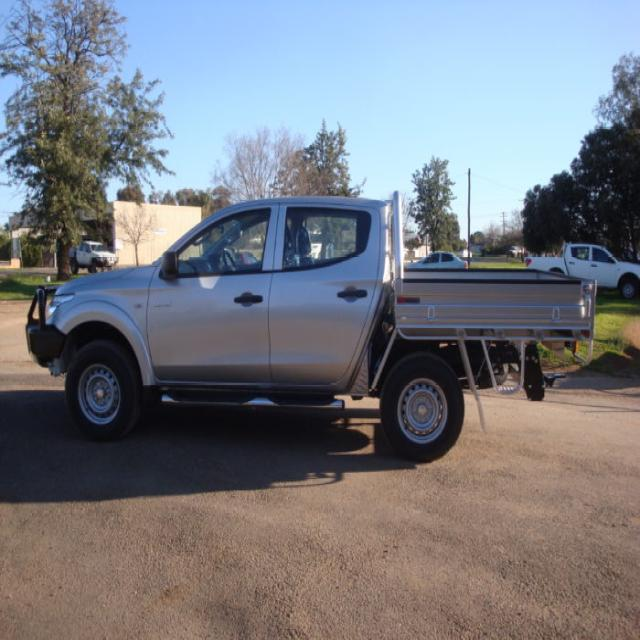light_vehicle: (22, 184, 601, 461)
